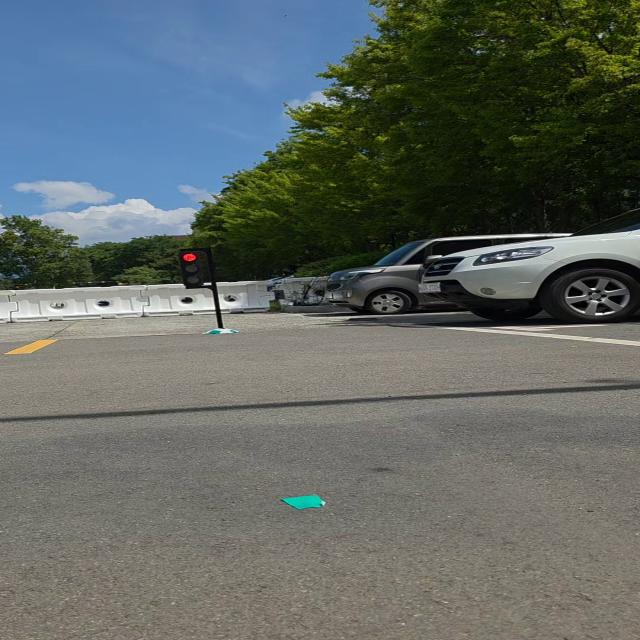red: (173, 251, 211, 289)
